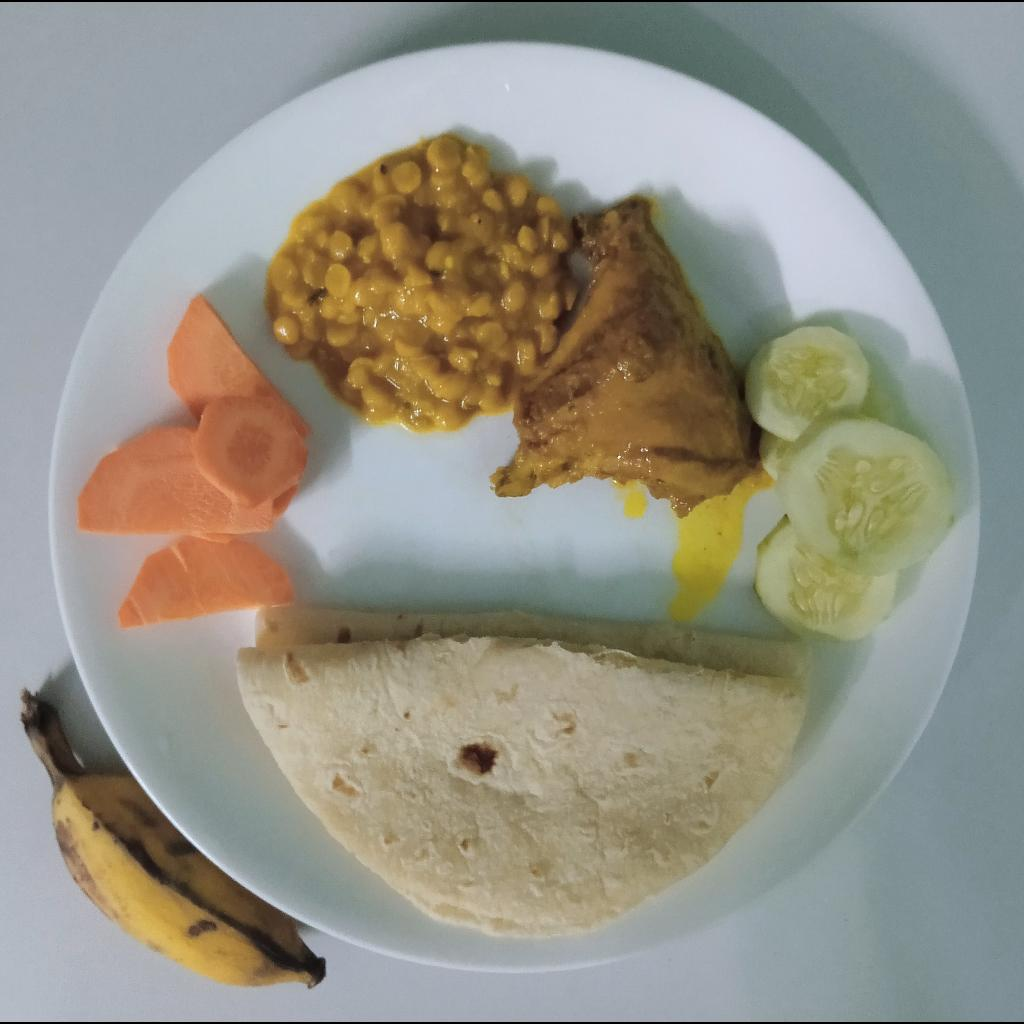banana: (19, 689, 326, 992)
carrot: (78, 294, 314, 627)
chicken: (490, 194, 761, 517)
cucumber: (741, 327, 951, 640)
daal: (268, 133, 578, 434)
ruti: (232, 606, 809, 936)
